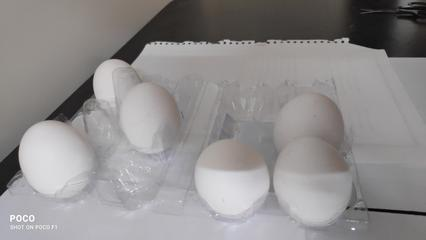eggs: (277, 140, 362, 238), (12, 116, 90, 194), (193, 141, 262, 224), (117, 80, 181, 151)
